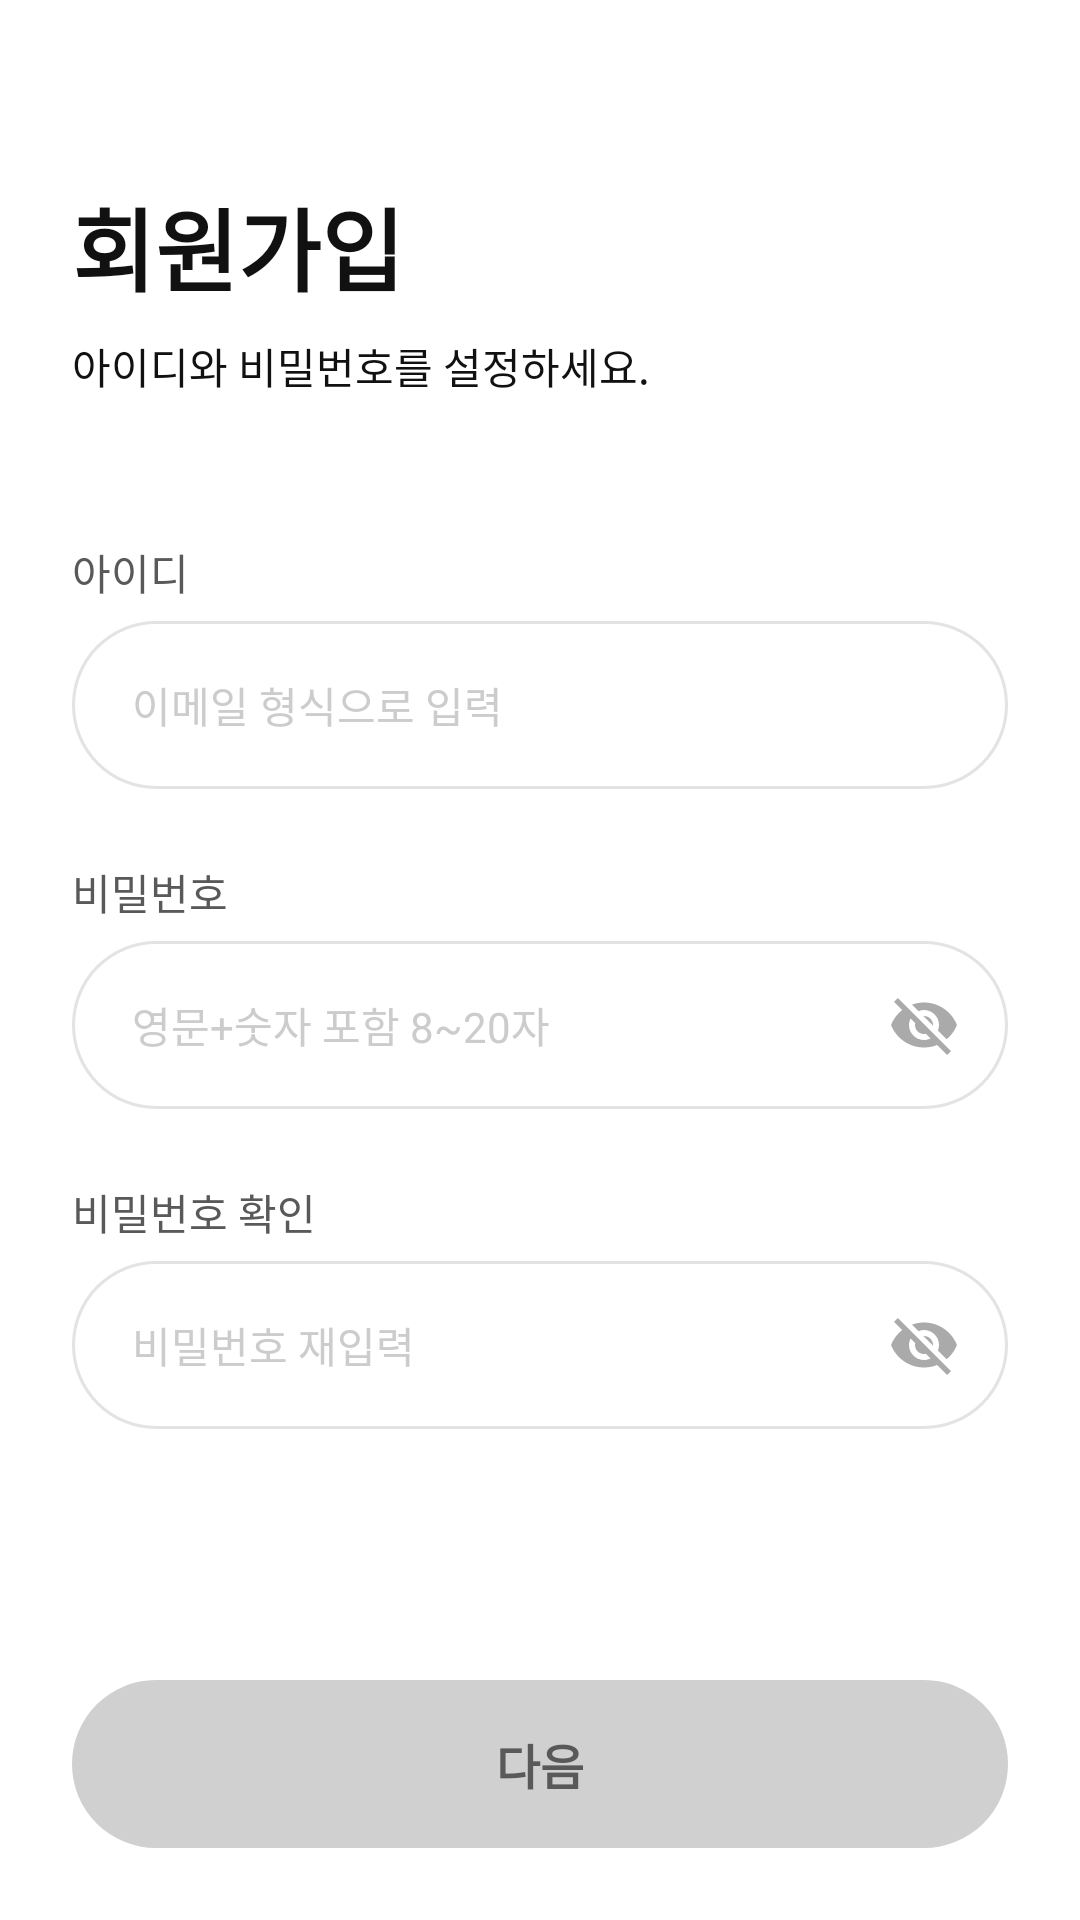

Icons on this 1080x1920 Android screen, each with the point to tap as (x,y):
비밀번호 표시: (924,1026)
비밀번호 확인 표시: (924,1346)
